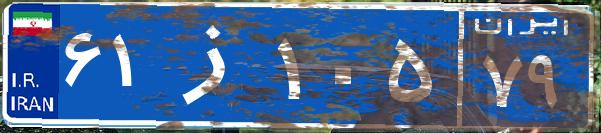0: (330, 28, 385, 110)
1: (273, 28, 330, 110), (110, 28, 158, 105)
5: (385, 28, 445, 110)
6: (57, 26, 110, 107)
7: (475, 38, 525, 113)
9: (525, 38, 570, 115)
ز: (158, 15, 273, 115)
